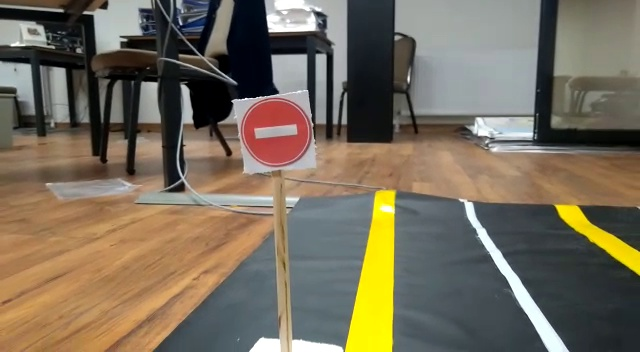girisi_olmayan_yol: (241, 97, 308, 167)
